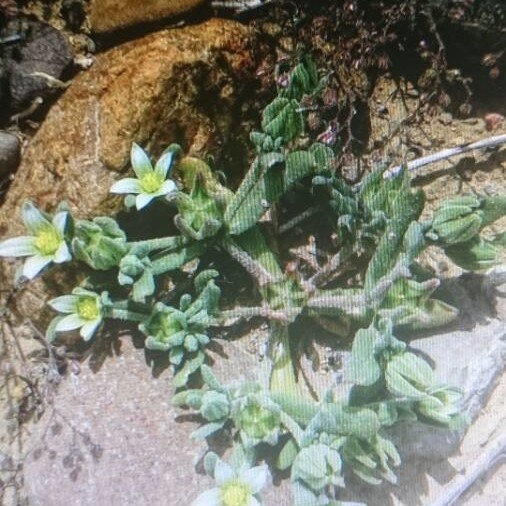obstacle: (14, 70, 477, 491)
